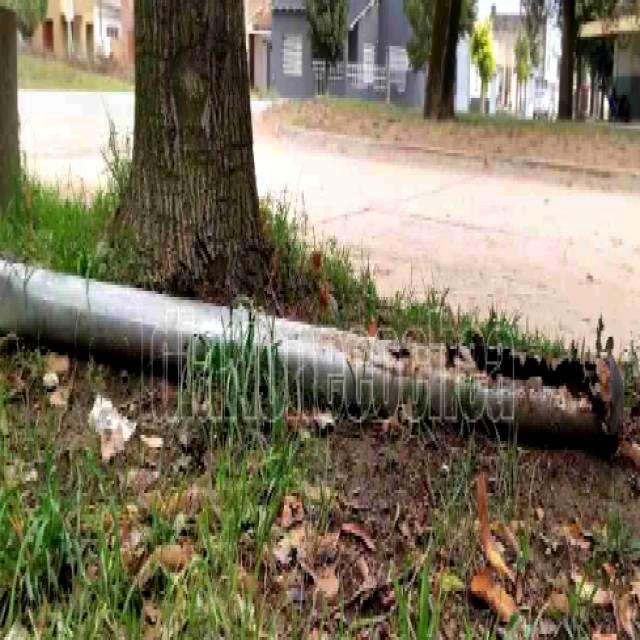Broken Pole: (0, 259, 628, 452)
